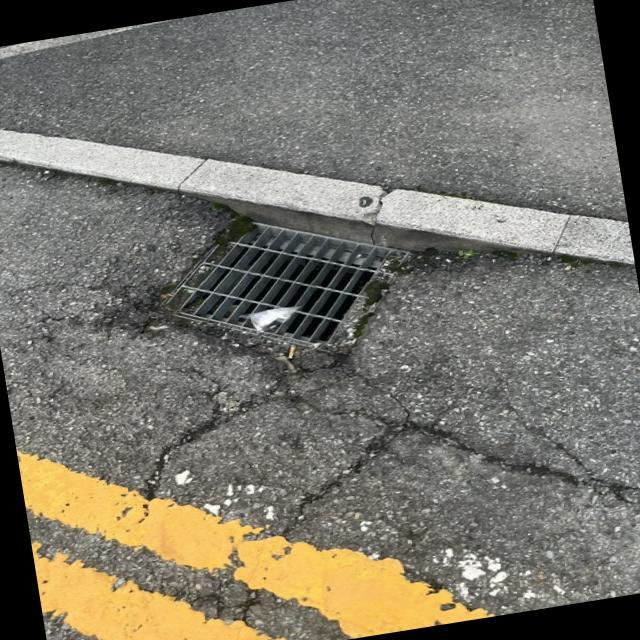drain_area: (196, 226, 387, 345)
drain_full: (155, 218, 410, 356)
